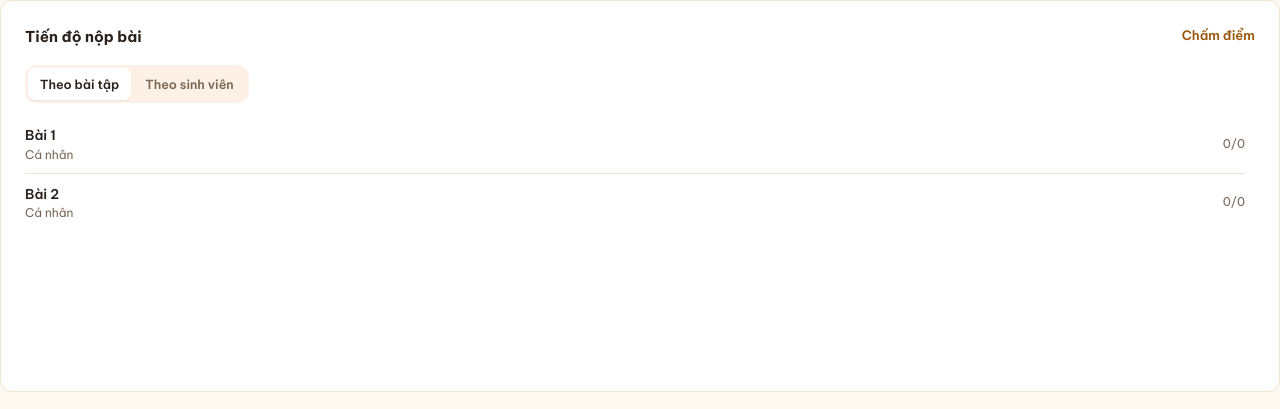
Scenario: U09 ClassProgressSection layout and lazy distribution › tab Theo sinh viên: số bài đã nộp của từng người (nộp ít lên trước), bấm để mở Chấm điểm của người đó; không còn Phân bố điểm
expect the text "Bài 1" is shown: met, box x1=25 y1=126 x2=56 y2=144
Click the tab "Theo sinh viên" at (190, 84), box x1=133 y1=68 x2=246 y2=100
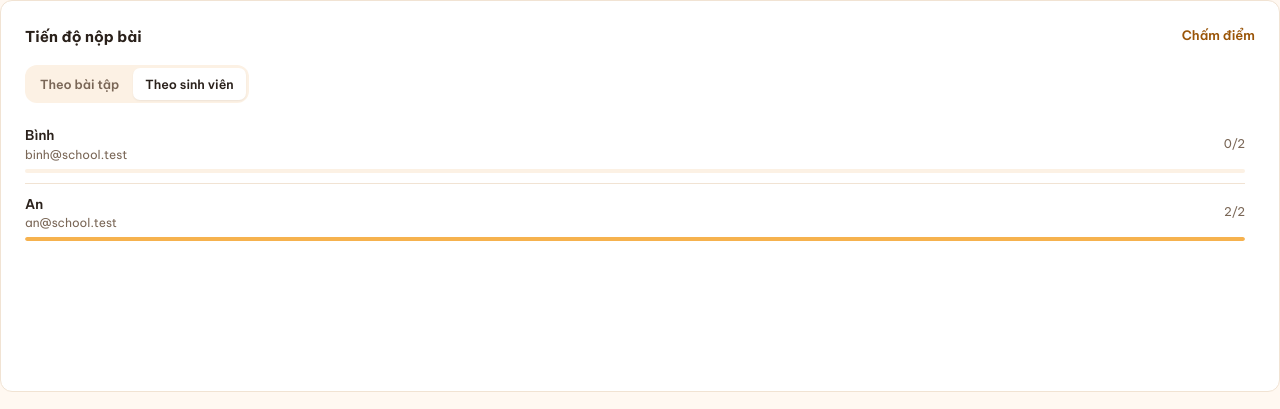
expect the list item with test id "progress-student-row" shows "Bình": met, box x1=17 y1=119 x2=1253 y2=183
expect the text titled "Đã nộp 0 / 2 bài" reads "0/2": met, box x1=1224 y1=136 x2=1245 y2=152
expect the text titled "Đã nộp 2 / 2 bài" is shown: met, box x1=1224 y1=204 x2=1245 y2=220
